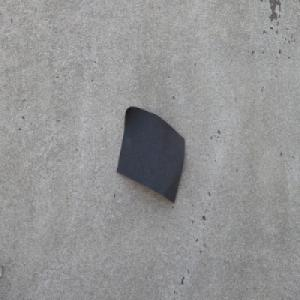PaintChip: (116, 104, 185, 203)
